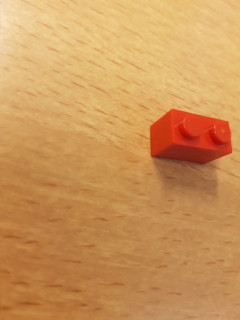1x2 red: (149, 109, 232, 168)
